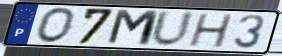3: (232, 13, 266, 50)
7: (77, 7, 116, 46)
H: (186, 13, 235, 49)
M: (104, 8, 162, 48)
O: (34, 6, 78, 45)
U: (149, 9, 197, 49)
